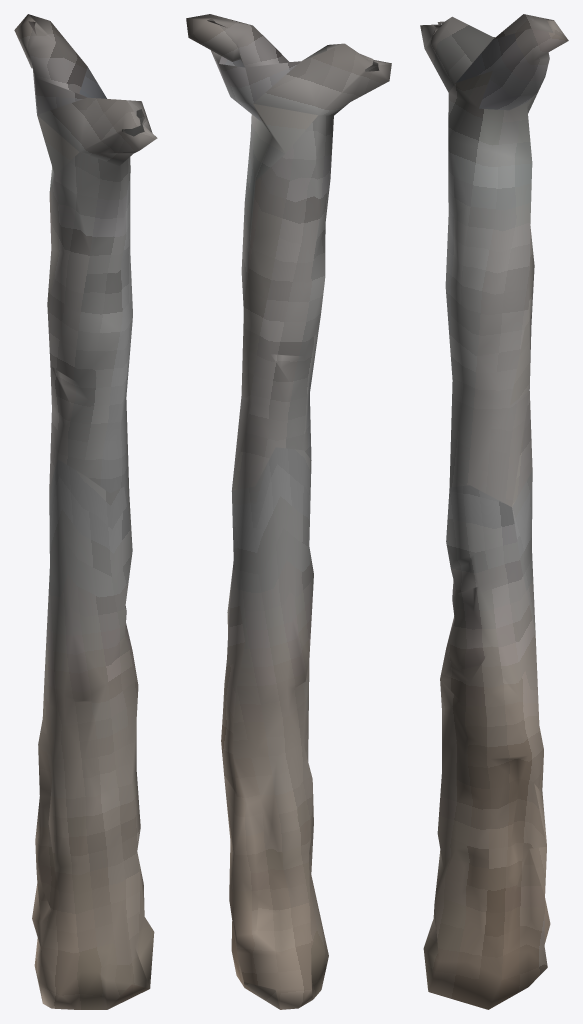
File: tree_dead_far.glb
3 views of the same model, side by side, from view 1: azimuth 90°, elevation 25°; view 2: azimuth 150°, elevation 25°; view 3: azimuth 270°, elevation 25° (orthographic). The views are drawn at different scales.
Visible parts, largest first — view 1: tree_dead_far; view 2: tree_dead_far; view 3: tree_dead_far.
Part boxes in pixels (<box>): tree_dead_far: <box>14,14,157,1009</box>; tree_dead_far: <box>186,14,391,1009</box>; tree_dead_far: <box>420,14,568,1009</box>.
Size of the model in its own units: 0.3082 by 1.98 by 0.2697.
1 material, 1 textured.
